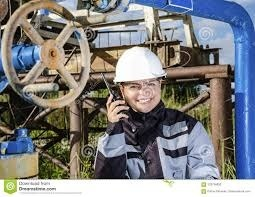helmet: (114, 46, 167, 82)
person with partial safety: (96, 47, 209, 180)
